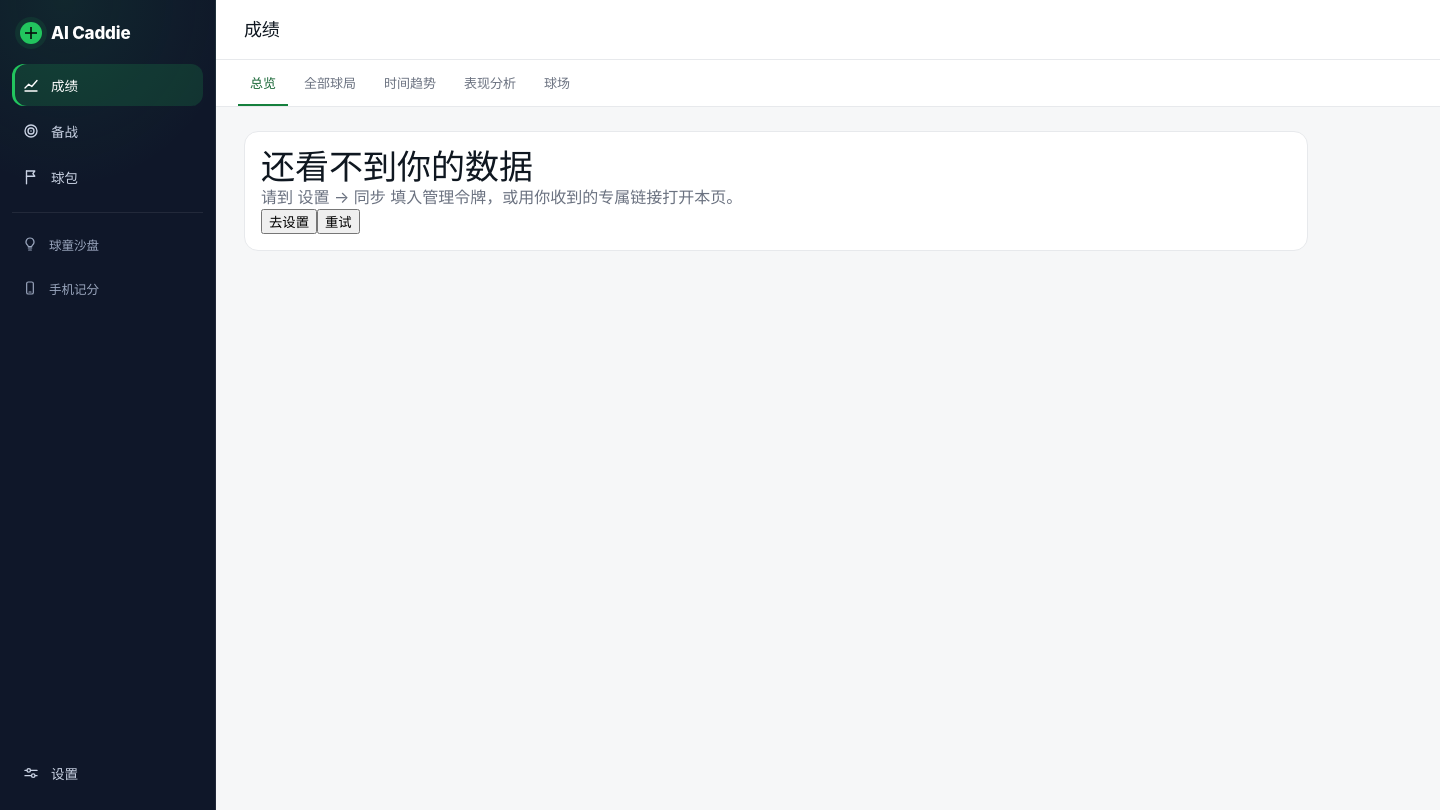
it: App navigation › can recover protected history overview after entering an admin token
Expected: the heading "还看不到你的数据" is shown, 261,146 -> 533,187
# The admin-token input lives in 设置 → 同步, never on the home page.
Click the button "去设置".
click(289, 222)  # box 261,209 -> 317,234
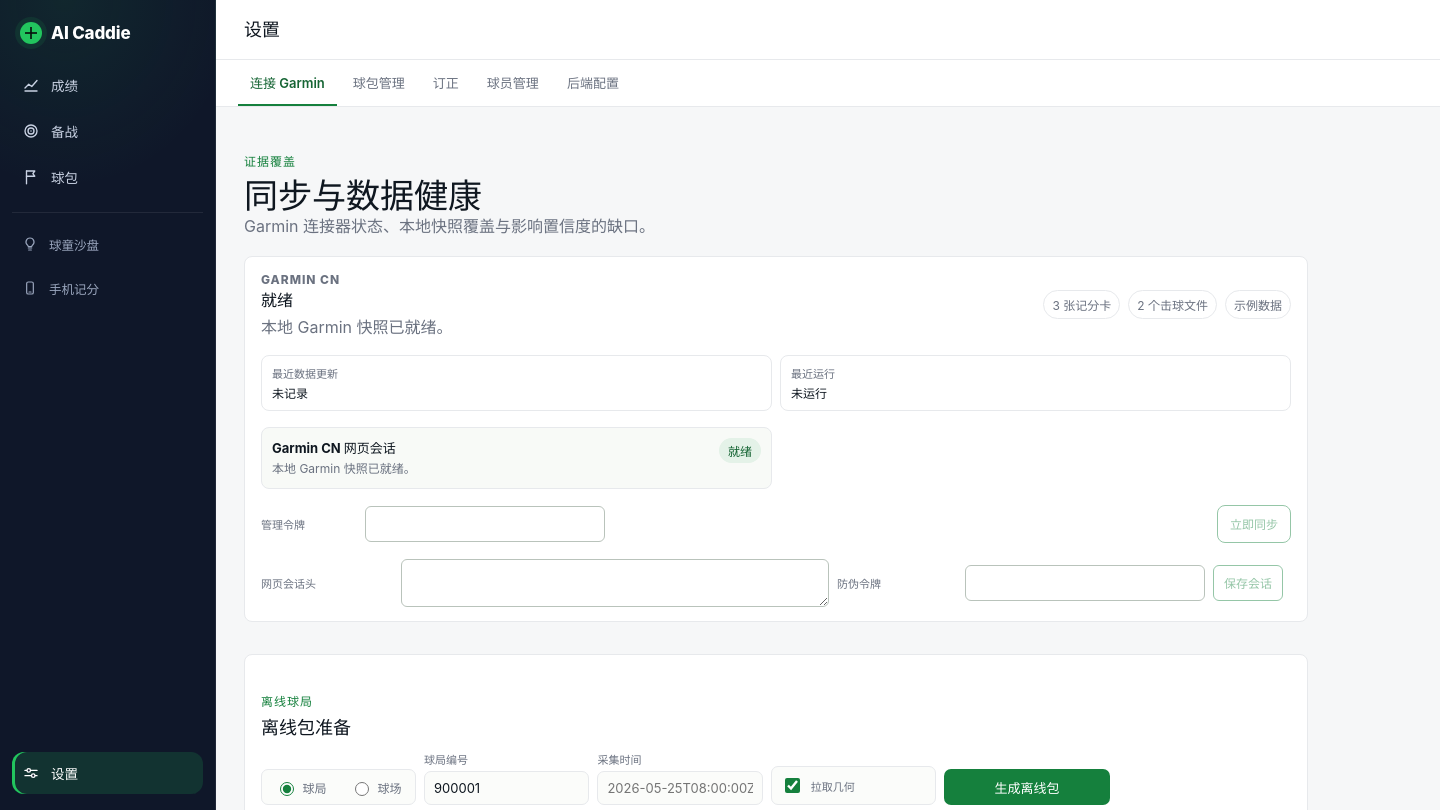
Type "admin-secret" into the password field labelled "管理令牌".
click(485, 524); type("admin-secret")  # box 365,506 -> 605,542
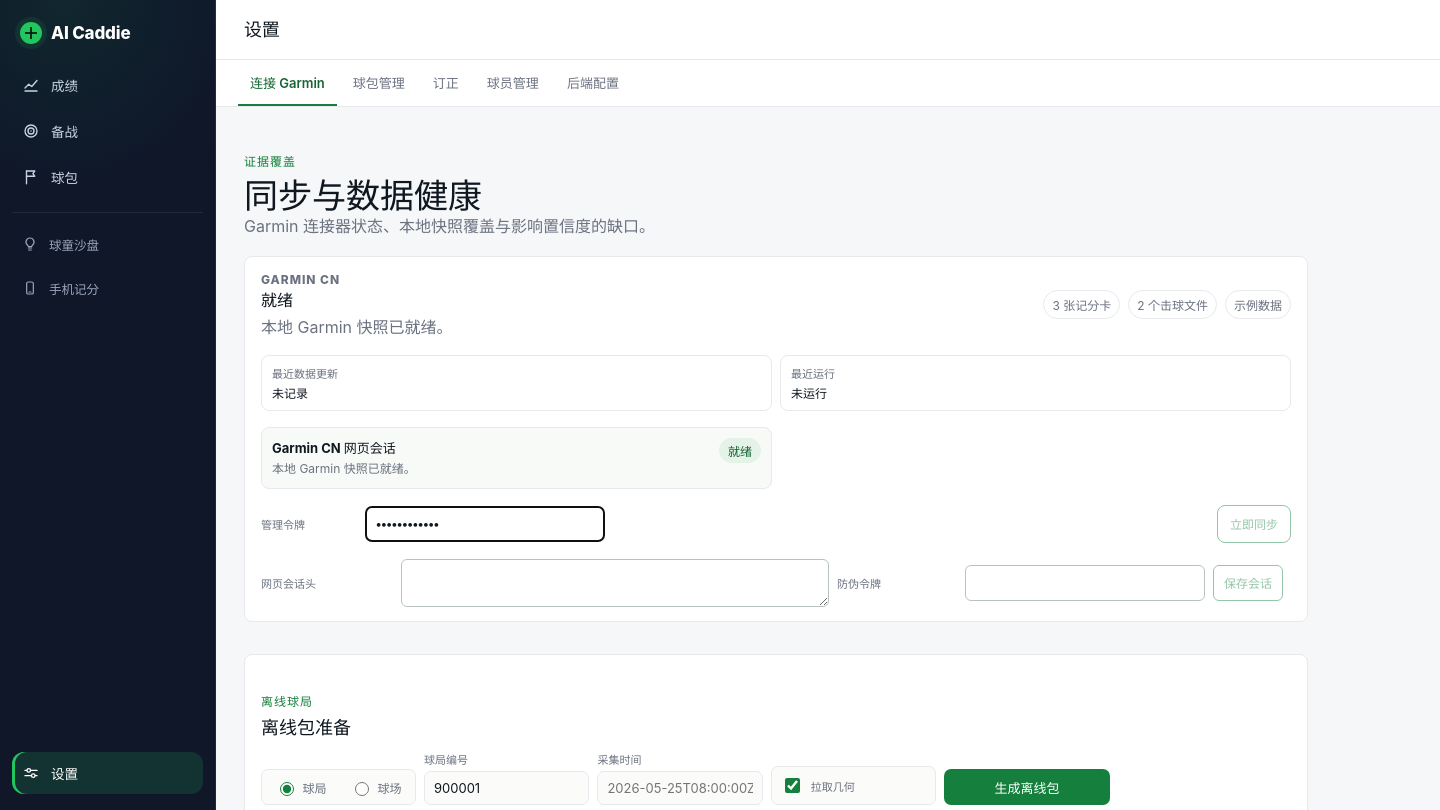
Click the button "成绩".
click(108, 85)  # box 12,64 -> 203,106
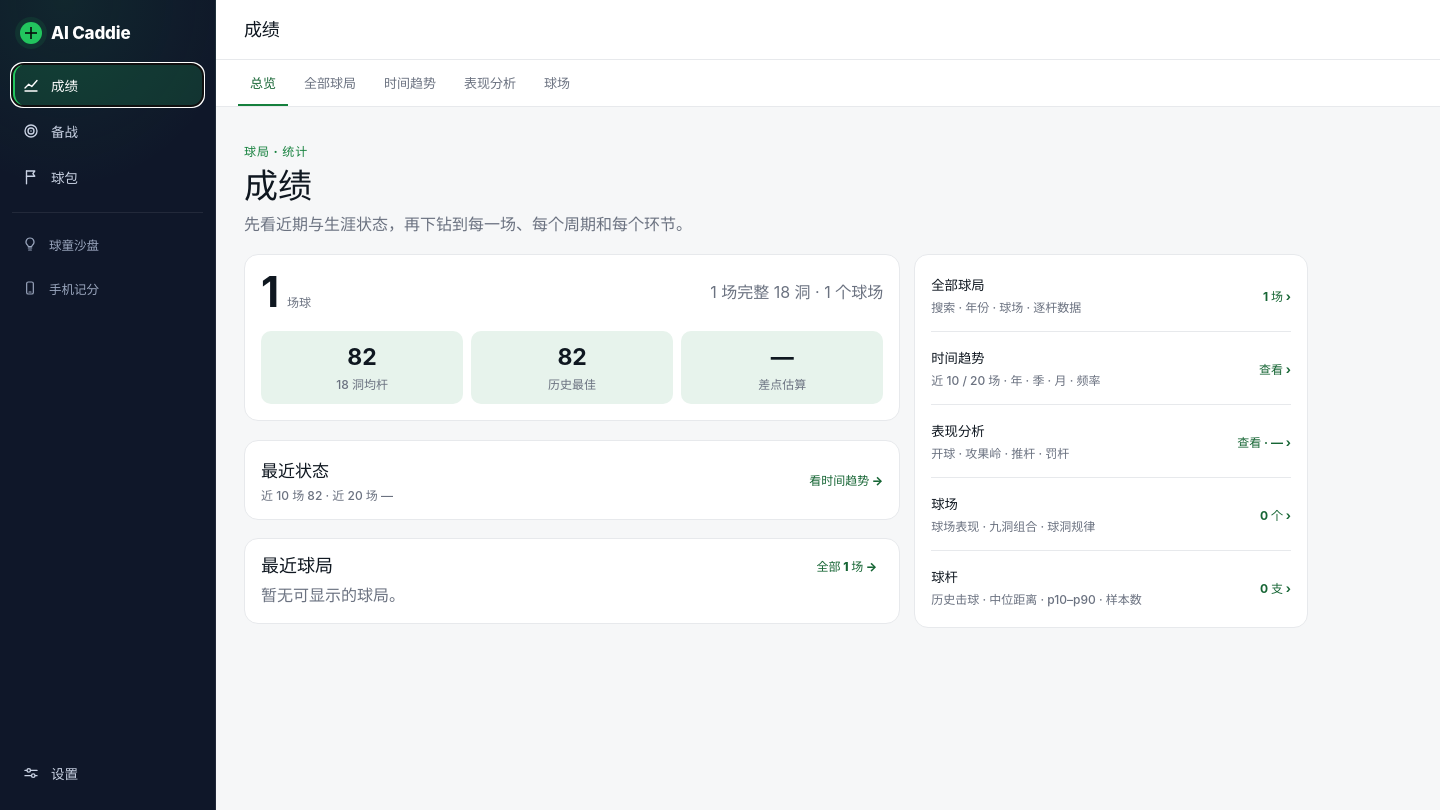
Result: the element named "成绩主页" is shown at 244,131 -> 1308,628
